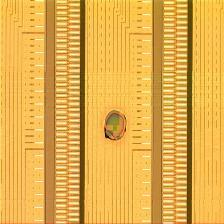COATING BAD: (98, 109, 134, 145)
